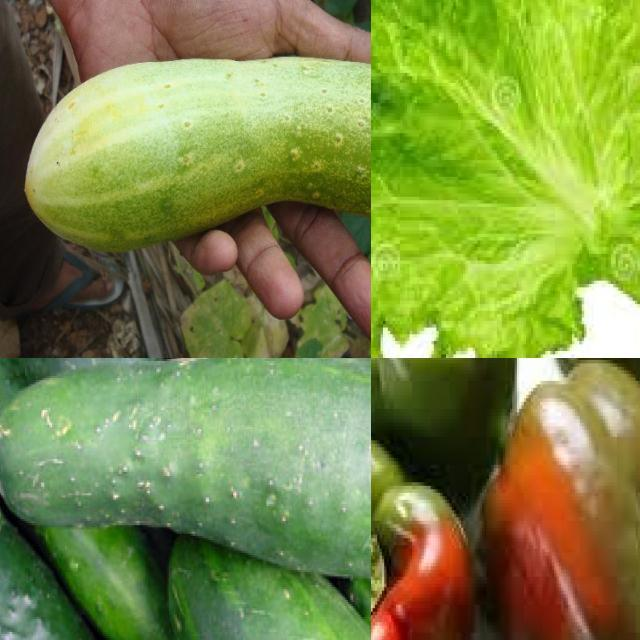bell_pepper: (457, 359, 640, 640), (372, 359, 534, 517), (372, 413, 470, 640)
cucumber: (1, 359, 372, 584), (17, 59, 372, 247), (1, 359, 113, 640), (157, 530, 372, 640)
